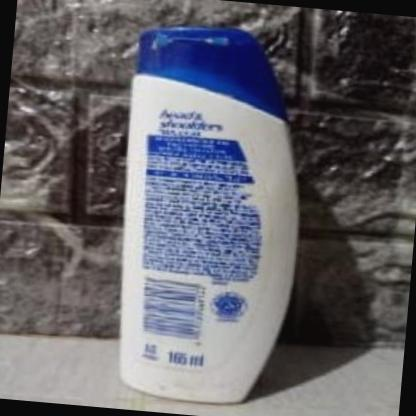objects: (99, 23, 318, 408)
